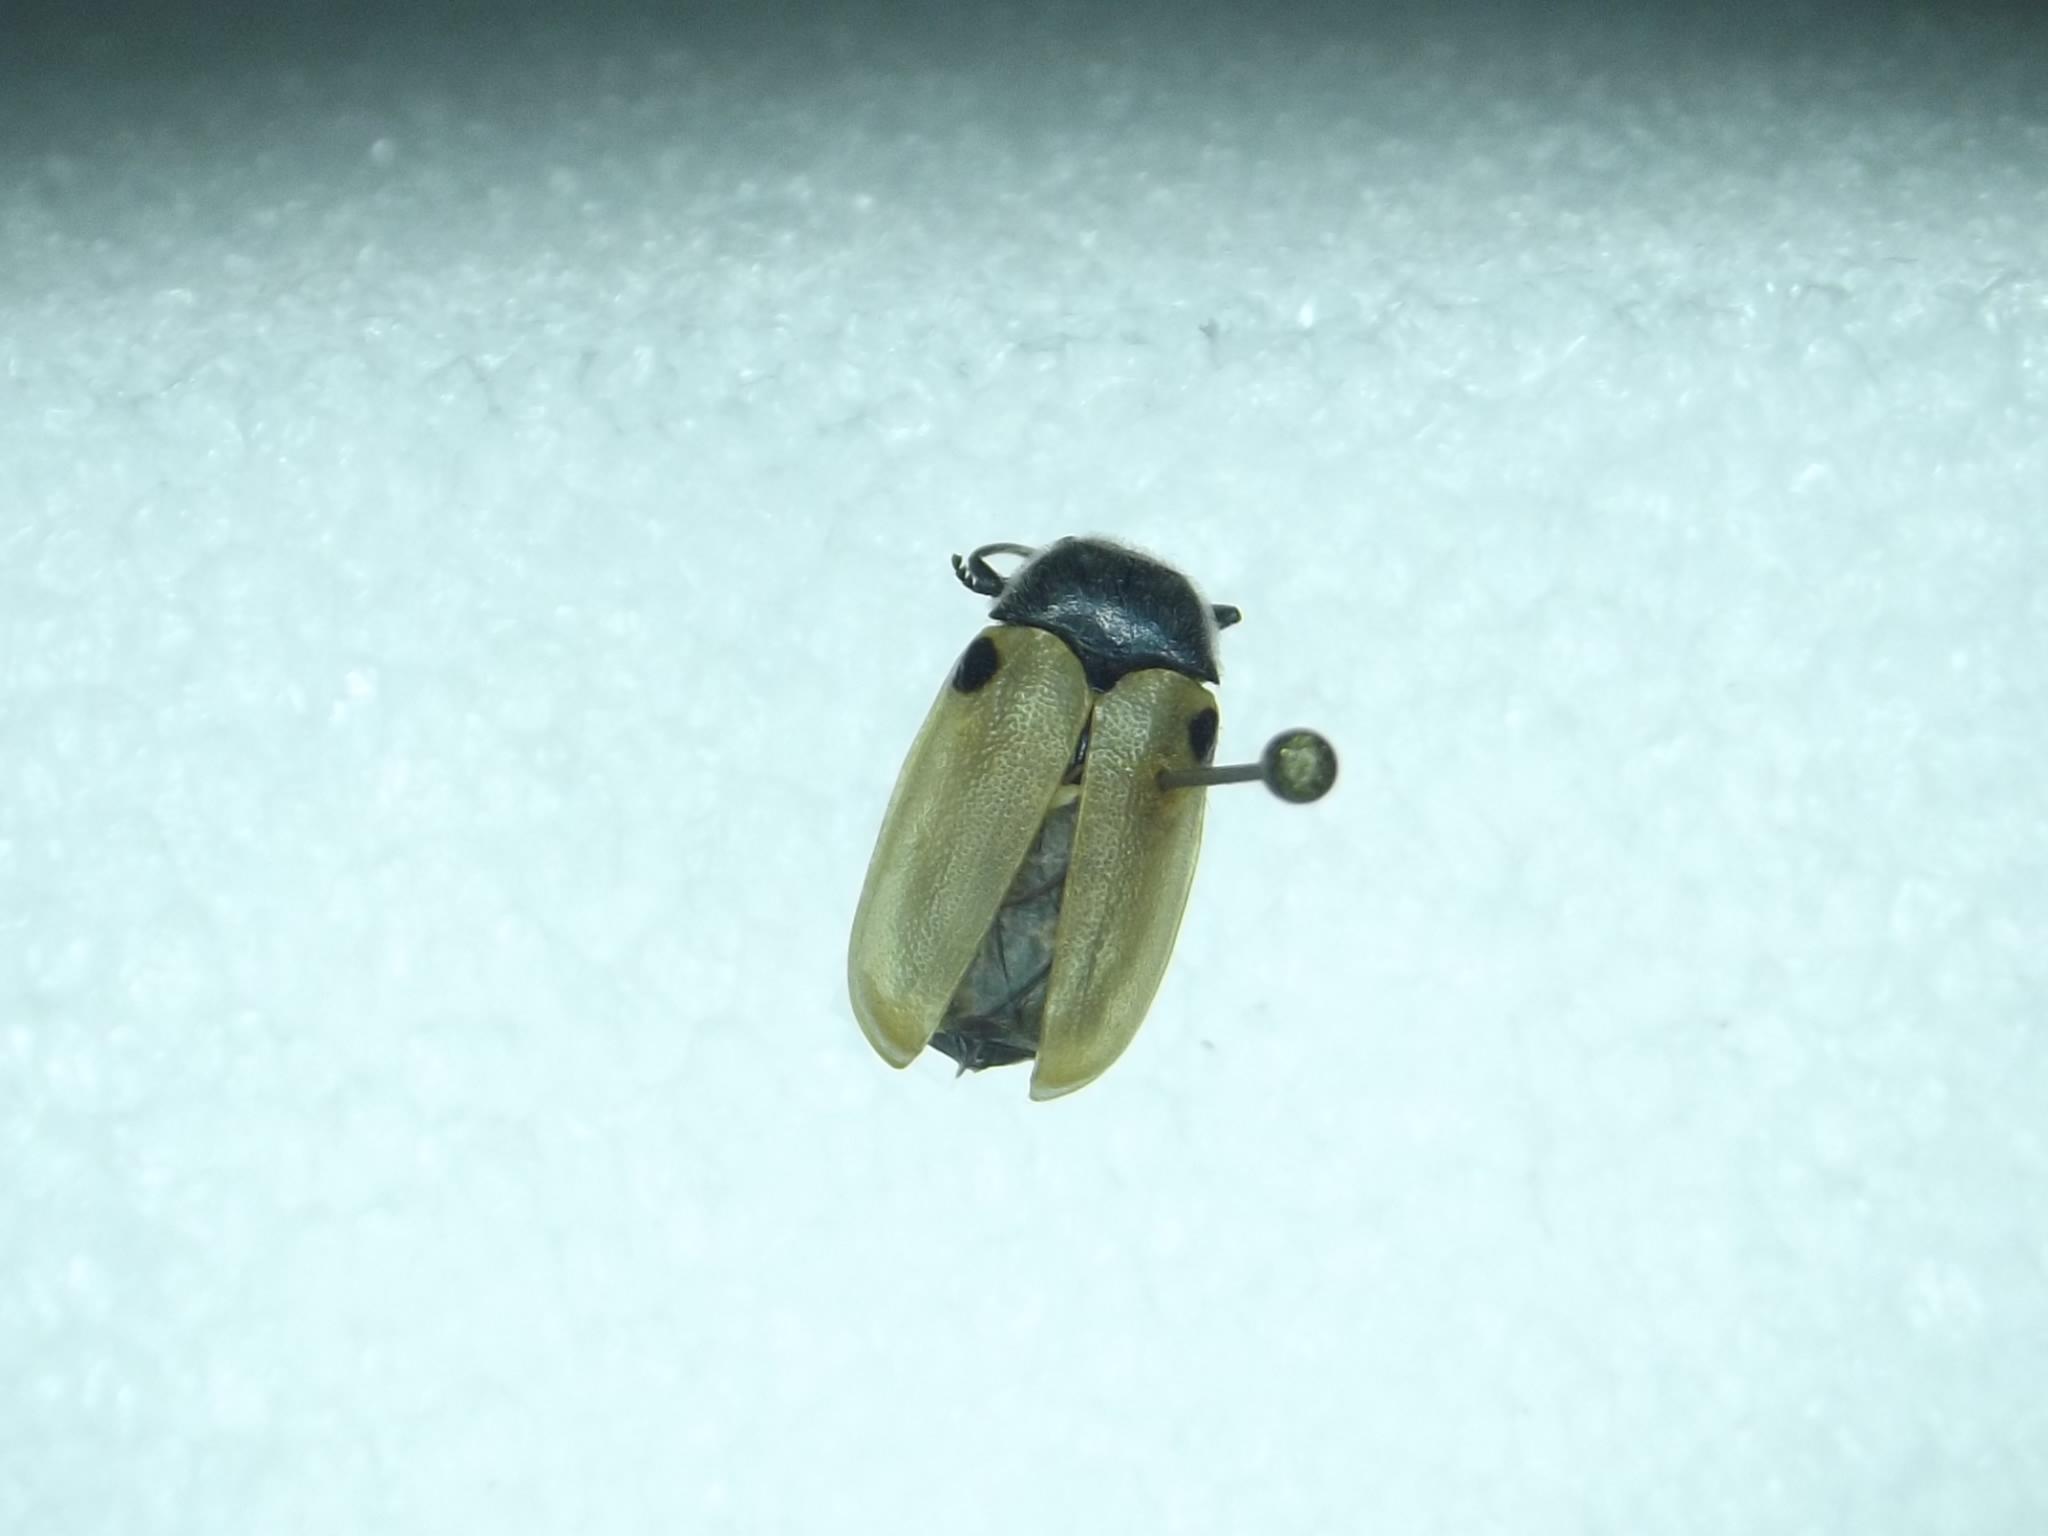Labidostomis_asiatica: (834, 528, 1247, 1126)
